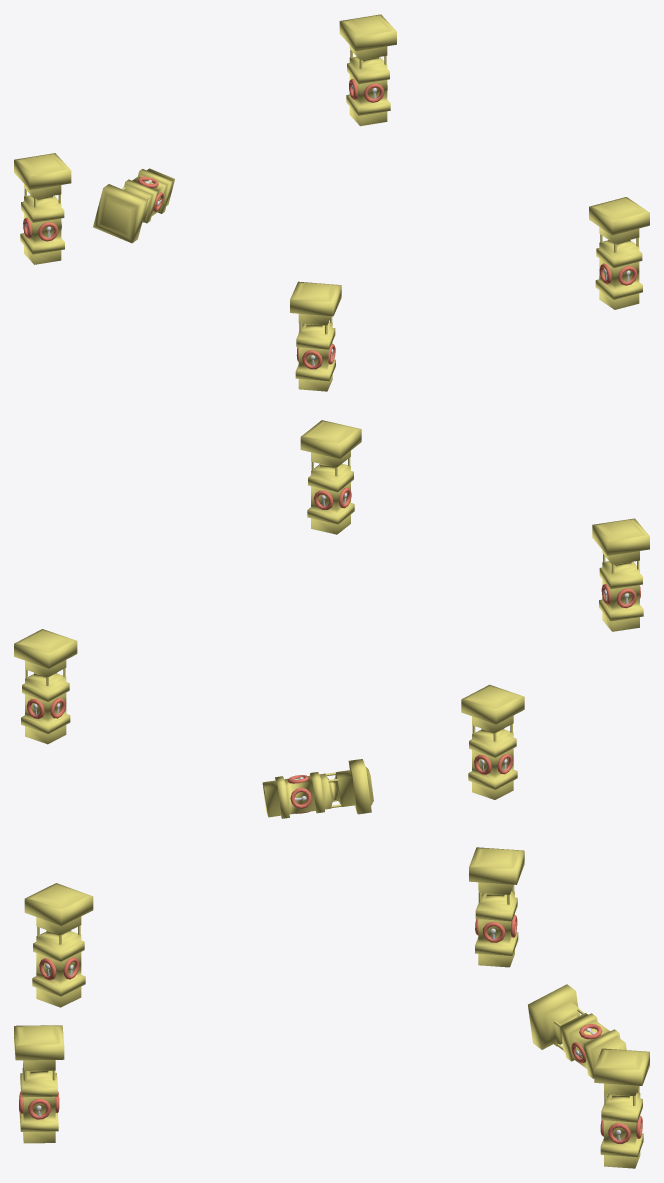
Rendered from filar.fbx.
The picture shows the model from 3 angles, top to bottom: view 1: azimuth 30°, elevation 25°; view 2: azimuth 150°, elevation 25°; view 3: azimuth 270°, elevation 25°; orthographic projection. The views are drawn at different scales.
Parts seen in each view (by area): view 1: F_filat, F_filat.001, F_filat.002, F_filat.004, F_filat.003; view 2: F_filat.002, F_filat.001, F_filat, F_filat.004, F_filat.003; view 3: F_filat.004, F_filat.002, F_filat.001, F_filat, F_filat.003.
Part boxes in pixels (box(x1,y1,x2,y2)): F_filat: box(589, 197, 649, 309); F_filat.001: box(339, 14, 396, 126); F_filat.002: box(14, 153, 71, 264); F_filat.004: box(290, 281, 341, 391); F_filat.003: box(93, 168, 174, 243); F_filat.002: box(461, 684, 524, 799); F_filat.001: box(14, 629, 77, 744); F_filat: box(300, 420, 361, 534); F_filat.004: box(592, 518, 649, 631); F_filat.003: box(262, 759, 373, 818); F_filat.004: box(24, 883, 93, 1007); F_filat.002: box(469, 847, 524, 967); F_filat.001: box(594, 1048, 649, 1168); F_filat: box(14, 1025, 64, 1143); F_filat.003: box(528, 984, 626, 1078).
Size of the model in its own units: 3394 by 1075 by 3994.
